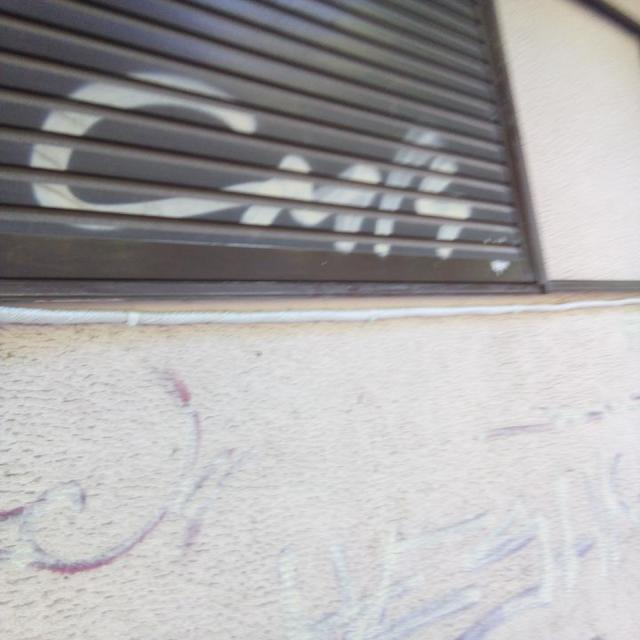nonspitting: (29, 70, 472, 258)
